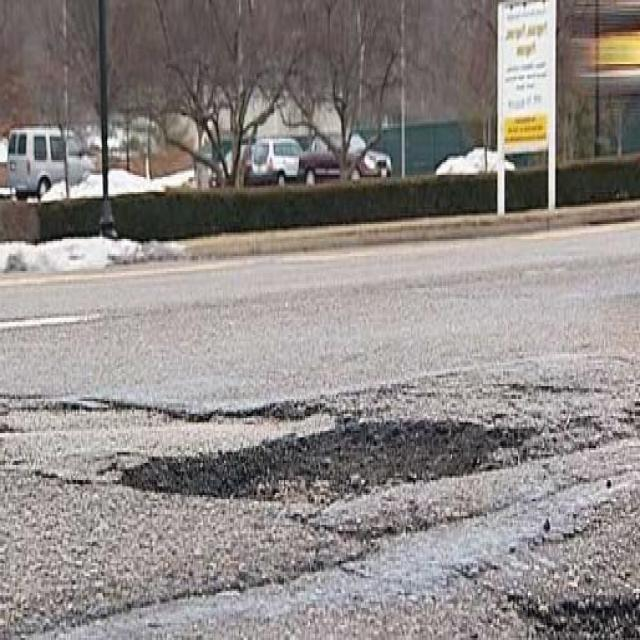Pothole: (122, 422, 521, 505), (520, 592, 640, 639)
